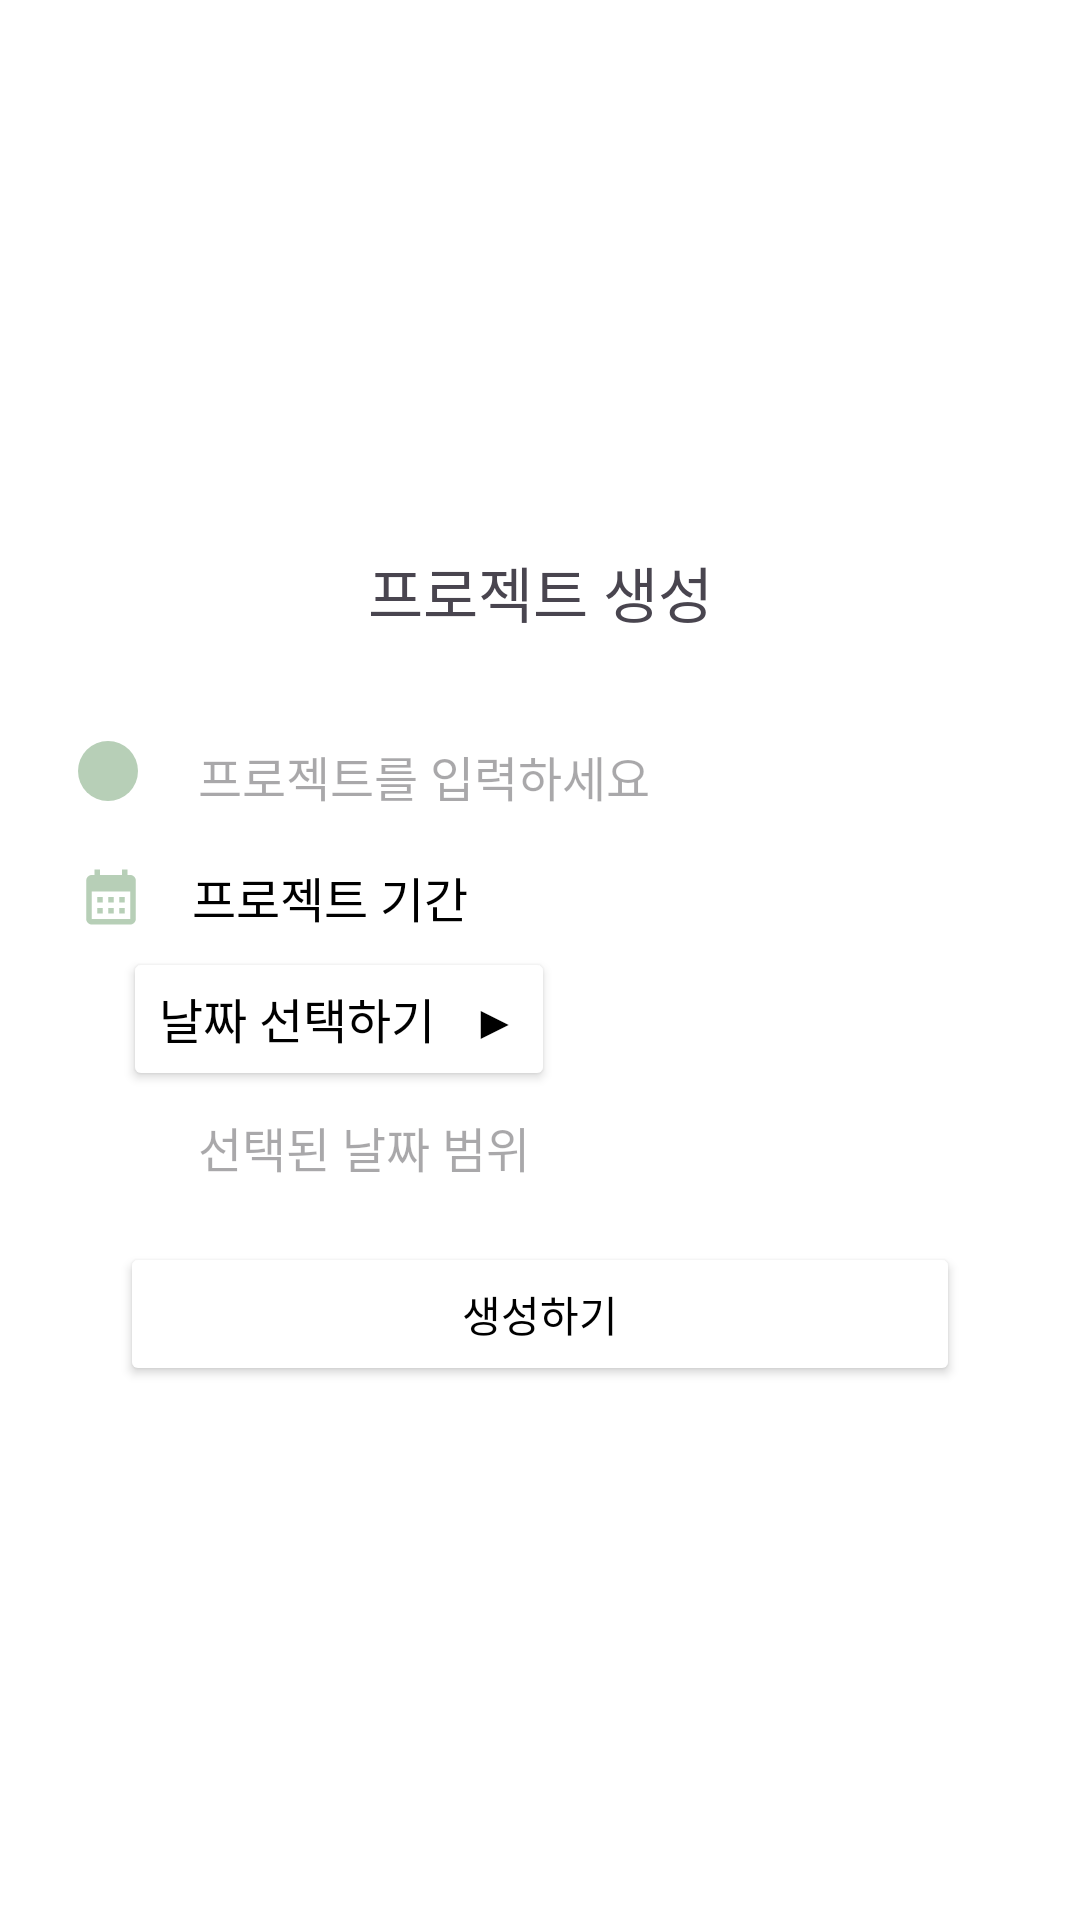

Where icons sit on this 1080x1920 app screen, as (x1, y1, x2, y2):
calendar month: (86, 869, 136, 925)
